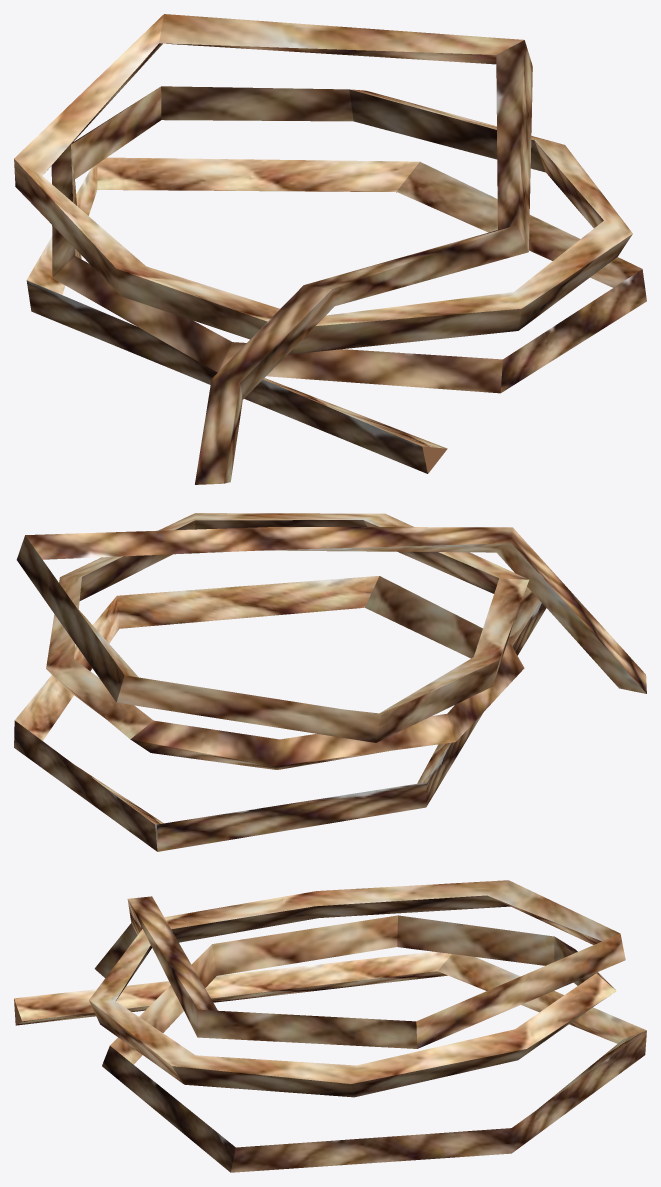
The model's file is rope.obj.
3 renders of one model, top to bottom at view 1: azimuth 30°, elevation 25°; view 2: azimuth 150°, elevation 25°; view 3: azimuth 270°, elevation 25°, orthographic. The views are drawn at different scales.
Parts seen in each view (by area): view 1: rope; view 2: rope; view 3: rope.
Boxes of the visible parts, x1=… form: rope: x1=14, y1=14, x2=646, y2=484; rope: x1=14, y1=513, x2=646, y2=851; rope: x1=14, y1=880, x2=646, y2=1172.
Size of the model in its own units: 5.83 by 2.03 by 7.49.
1 material, 1 textured.
